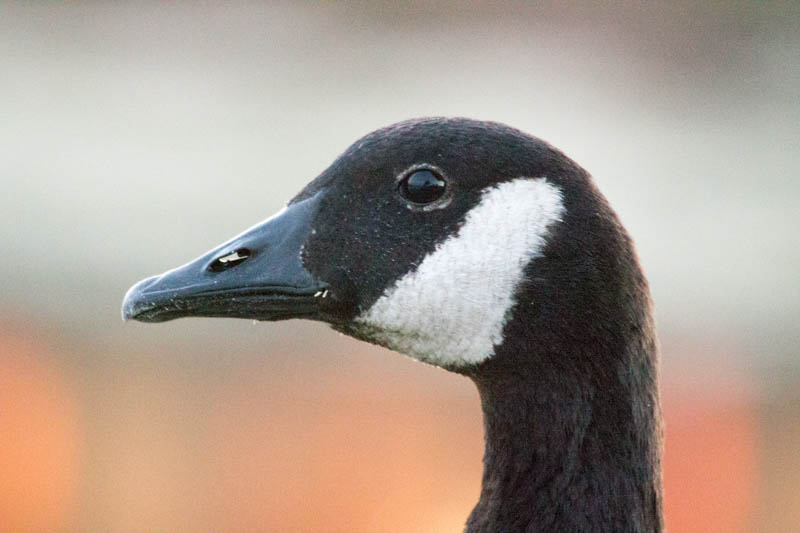goose-head: (120, 114, 657, 379)
